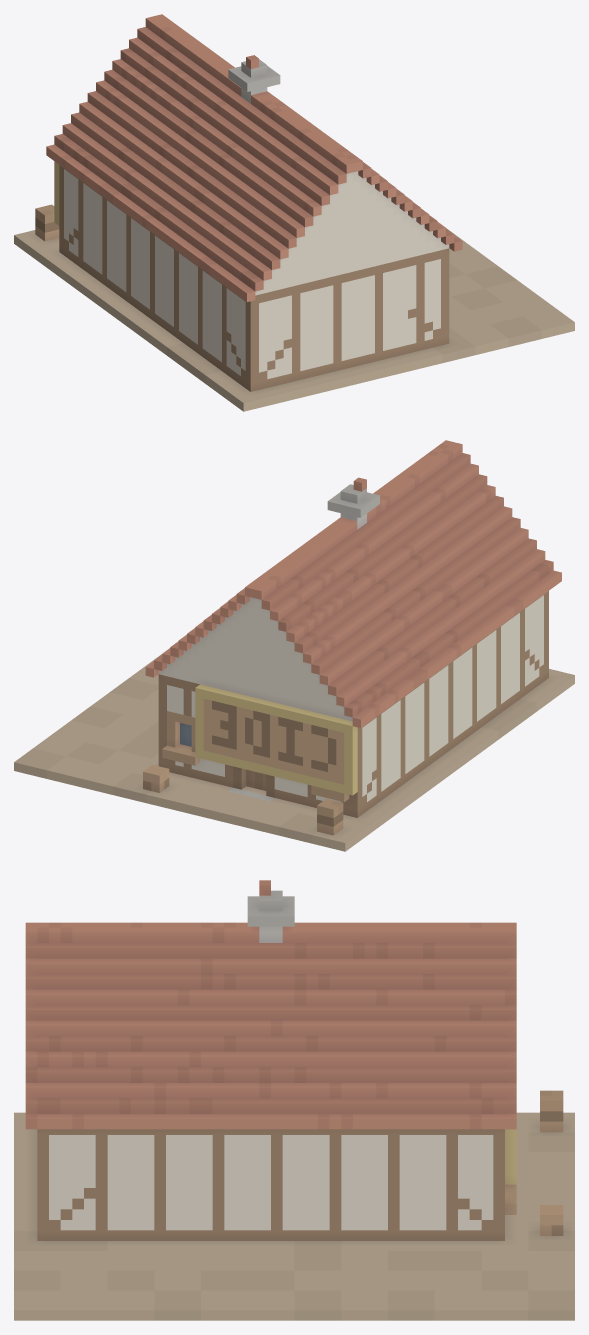
The model's file is cidery.glb.
The picture shows the model from 3 angles, top to bottom: view 1: azimuth 30°, elevation 25°; view 2: azimuth 150°, elevation 25°; view 3: azimuth 270°, elevation 25°; orthographic projection. The views are drawn at different scales.
Parts seen in each view (by area): view 1: cidery; view 2: cidery; view 3: cidery.
Boxes of the visible parts, x1,y1,x2,y2 form: cidery: [14, 14, 574, 411]; cidery: [14, 440, 574, 851]; cidery: [14, 880, 574, 1320].
Size of the model in its own units: 5 by 3.62 by 6.
